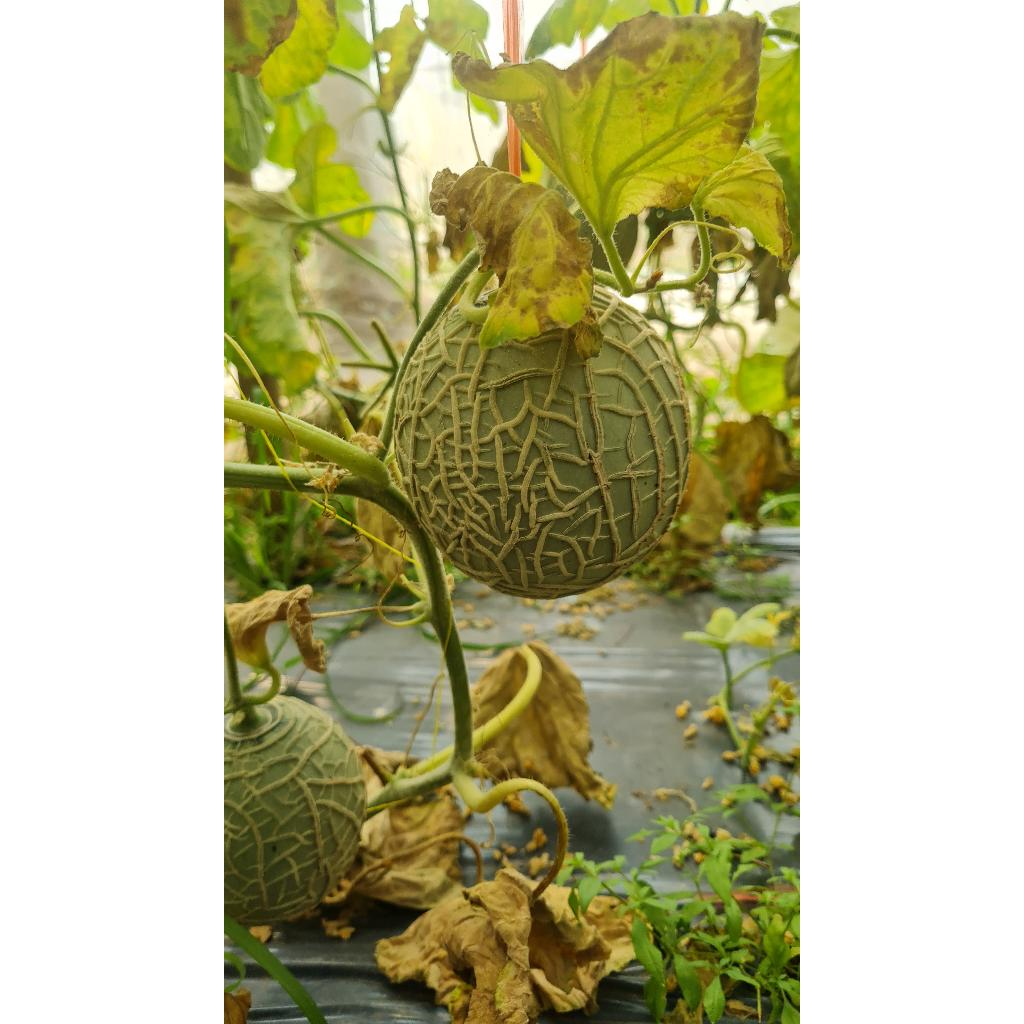melon: (394, 288, 690, 598), (224, 696, 366, 924)
